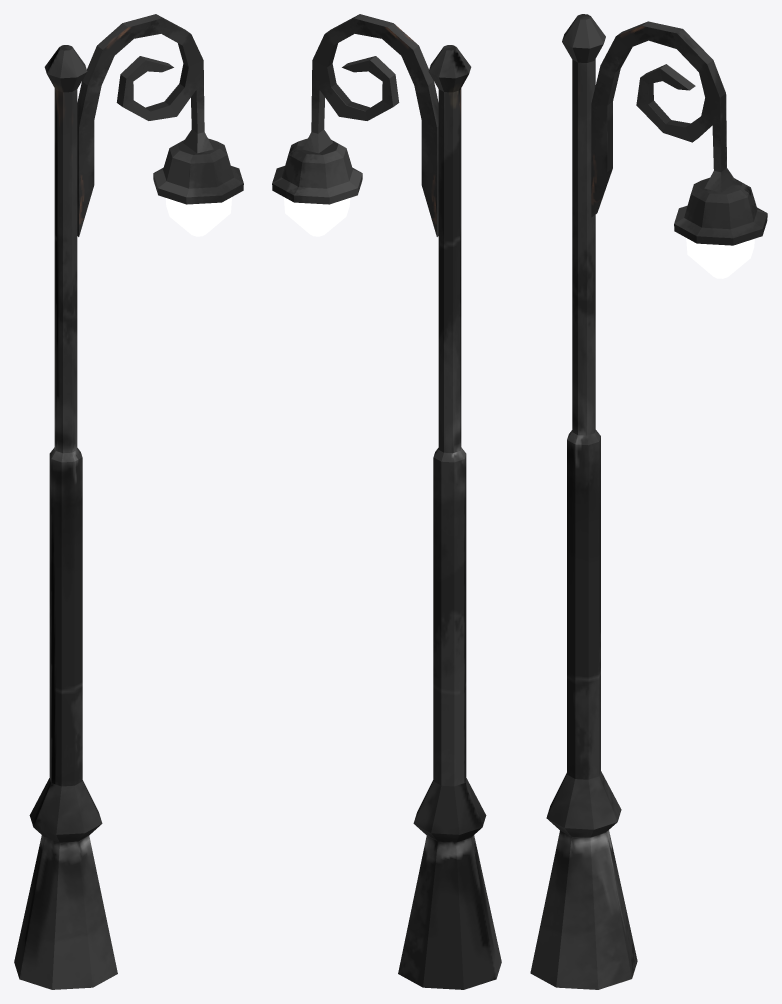
Rendered from streetlamp_1.glb.
3 renders of one model, left to right at view 1: azimuth 30°, elevation 25°; view 2: azimuth 150°, elevation 25°; view 3: azimuth 330°, elevation 25°, orthographic. The views are drawn at different scales.
Visible parts, largest first — view 1: Street Lamp 1, Light; view 2: Street Lamp 1, Light; view 3: Street Lamp 1, Light.
Part boxes in pixels (x1,y1,x2,y2): Street Lamp 1: [14, 14, 243, 989]; Light: [165, 197, 231, 236]; Street Lamp 1: [272, 14, 501, 989]; Light: [284, 197, 350, 236]; Street Lamp 1: [530, 14, 767, 989]; Light: [686, 238, 754, 278].
Bounding box in the file's own units: 3.24 × 13.09 × 1.37.
Materials: 2 (1 with a texture image).
